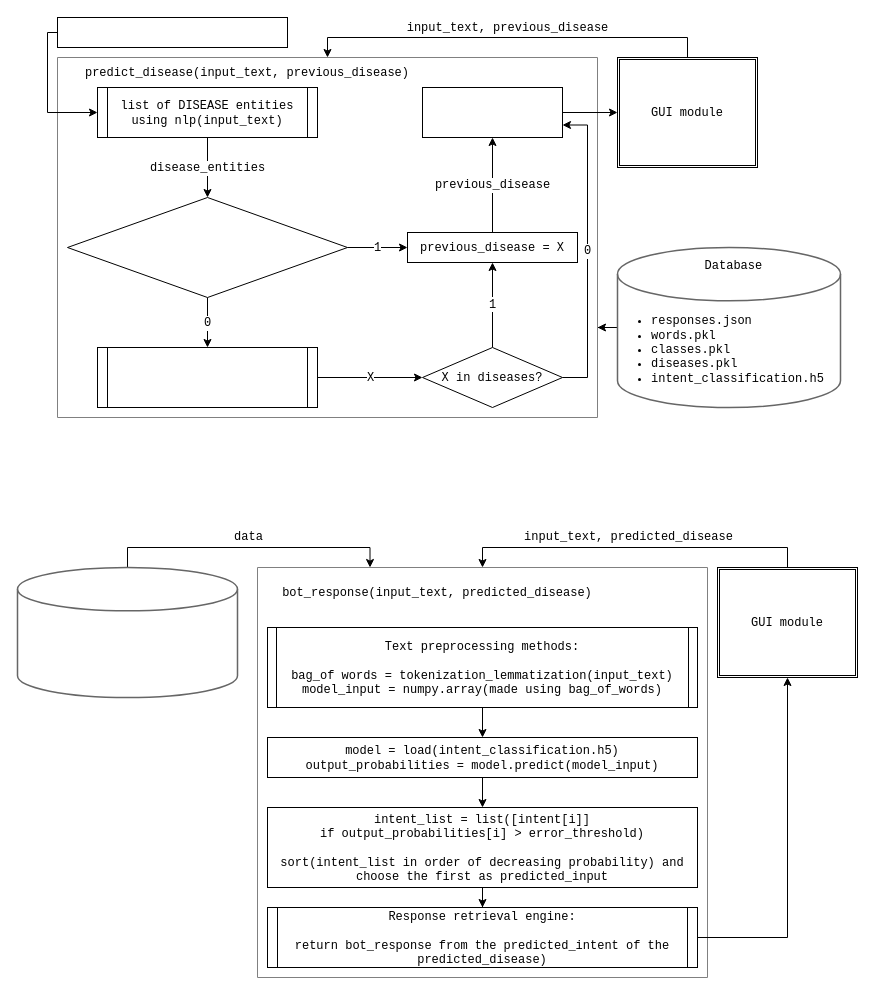
This 876x995 diagram has some shape labels left out. The shapes that lost their labels are listed below. From the top down, each one's centre as x and y in pixels, then its label:
point (172, 32): nlp = load("en_ner_bc5cdr_md")
point (492, 112): return previous_disease
point (207, 247): length(disease_entities) == 0?
point (207, 377): Check for every disease name X in the list disease_entities
point (127, 632): Database responses.json words.pkl classes.pkl intent_classification.h5
